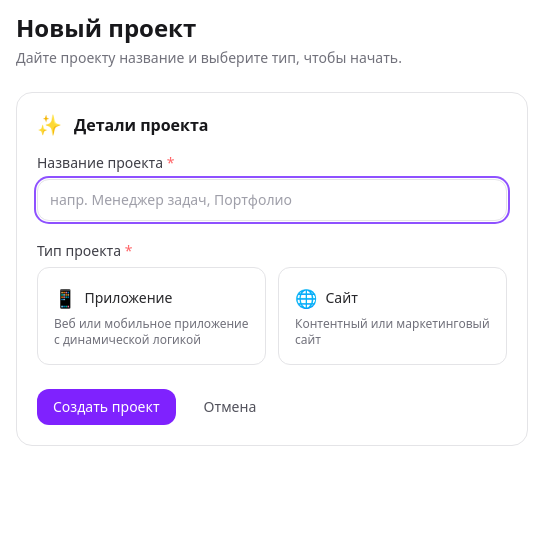
Test: B. Validation — errors shown on invalid submit › shows name error when submitting with empty name and no type
Click the button "Создать проект".
click(106, 407)  # box [37,389,176,425]
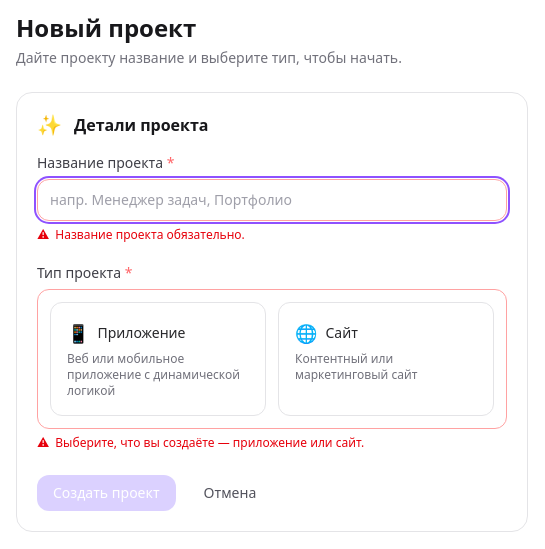
Expected: the text "⚠ Название проекта обязательно." is shown, [37,226,245,243]
